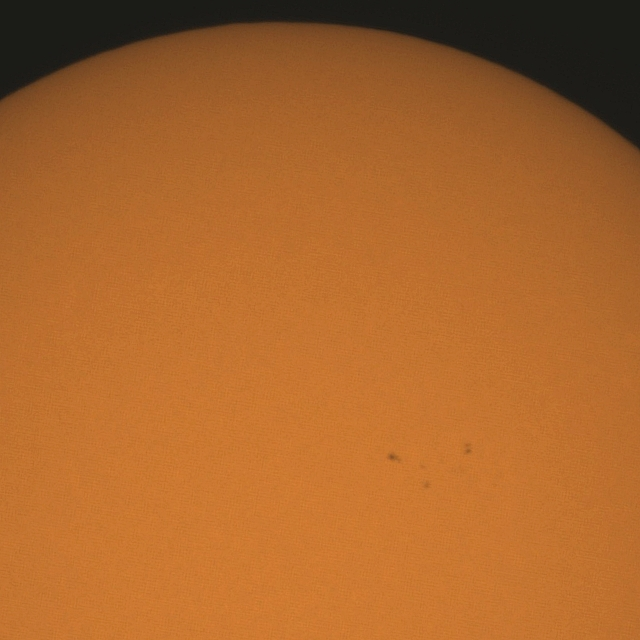sunspot: (386, 451, 403, 467), (463, 441, 474, 456)
